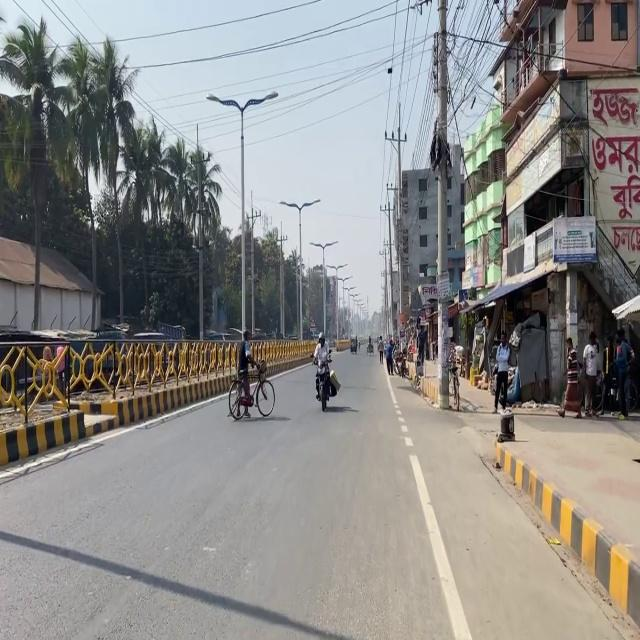Construction-barrier: (496, 448, 632, 594), (0, 408, 117, 465)
Fallen-tree: (366, 343, 373, 353)
Garbage: (497, 408, 515, 441)
Garbage-bin: (235, 330, 264, 417), (492, 332, 512, 413), (310, 334, 333, 400)
Light-pole: (434, 0, 450, 409)
Pole: (12, 312, 272, 462)
Pothole: (407, 351, 639, 628)
